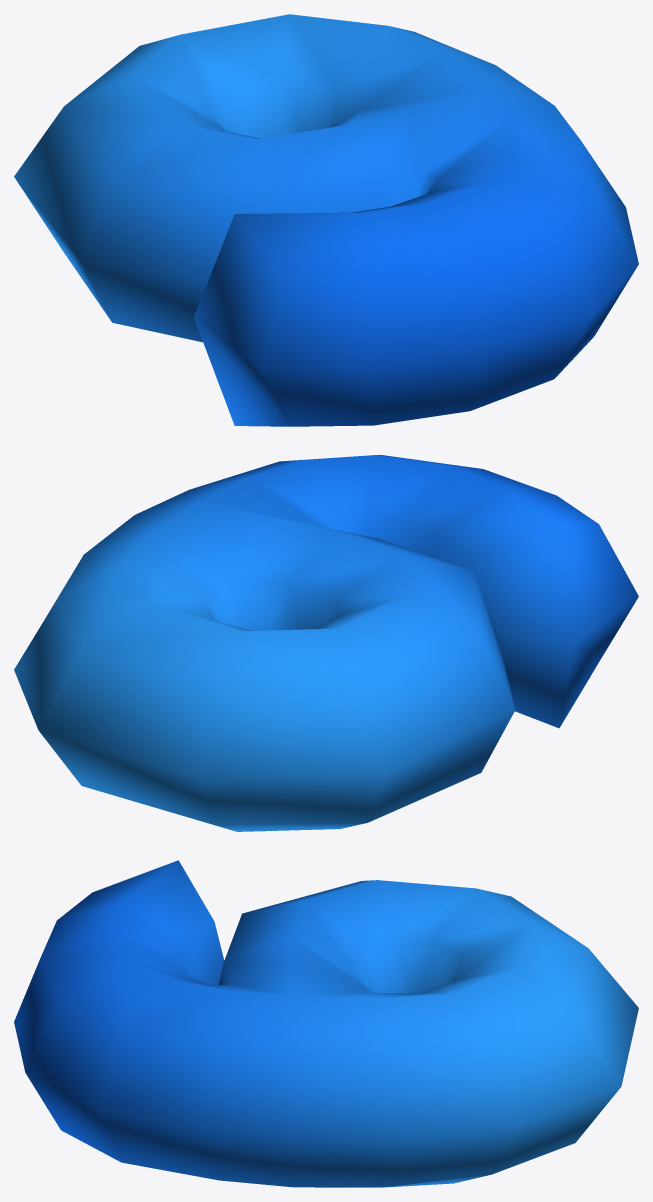
Rendered from CartoonFont_9.FBX.
3 renders of one model, top to bottom at view 1: azimuth 30°, elevation 25°; view 2: azimuth 150°, elevation 25°; view 3: azimuth 270°, elevation 25°, orthographic. The views are drawn at different scales.
Visible parts, largest first — view 1: 9; view 2: 9; view 3: 9.
Part boxes in pixels (<box>): 9: <box>14,14,638,426</box>; 9: <box>14,455,638,831</box>; 9: <box>14,860,638,1187</box>.
Bounding box in the file's own units: 23.22 × 9.96 × 29.83.
1 material, 1 textured.
